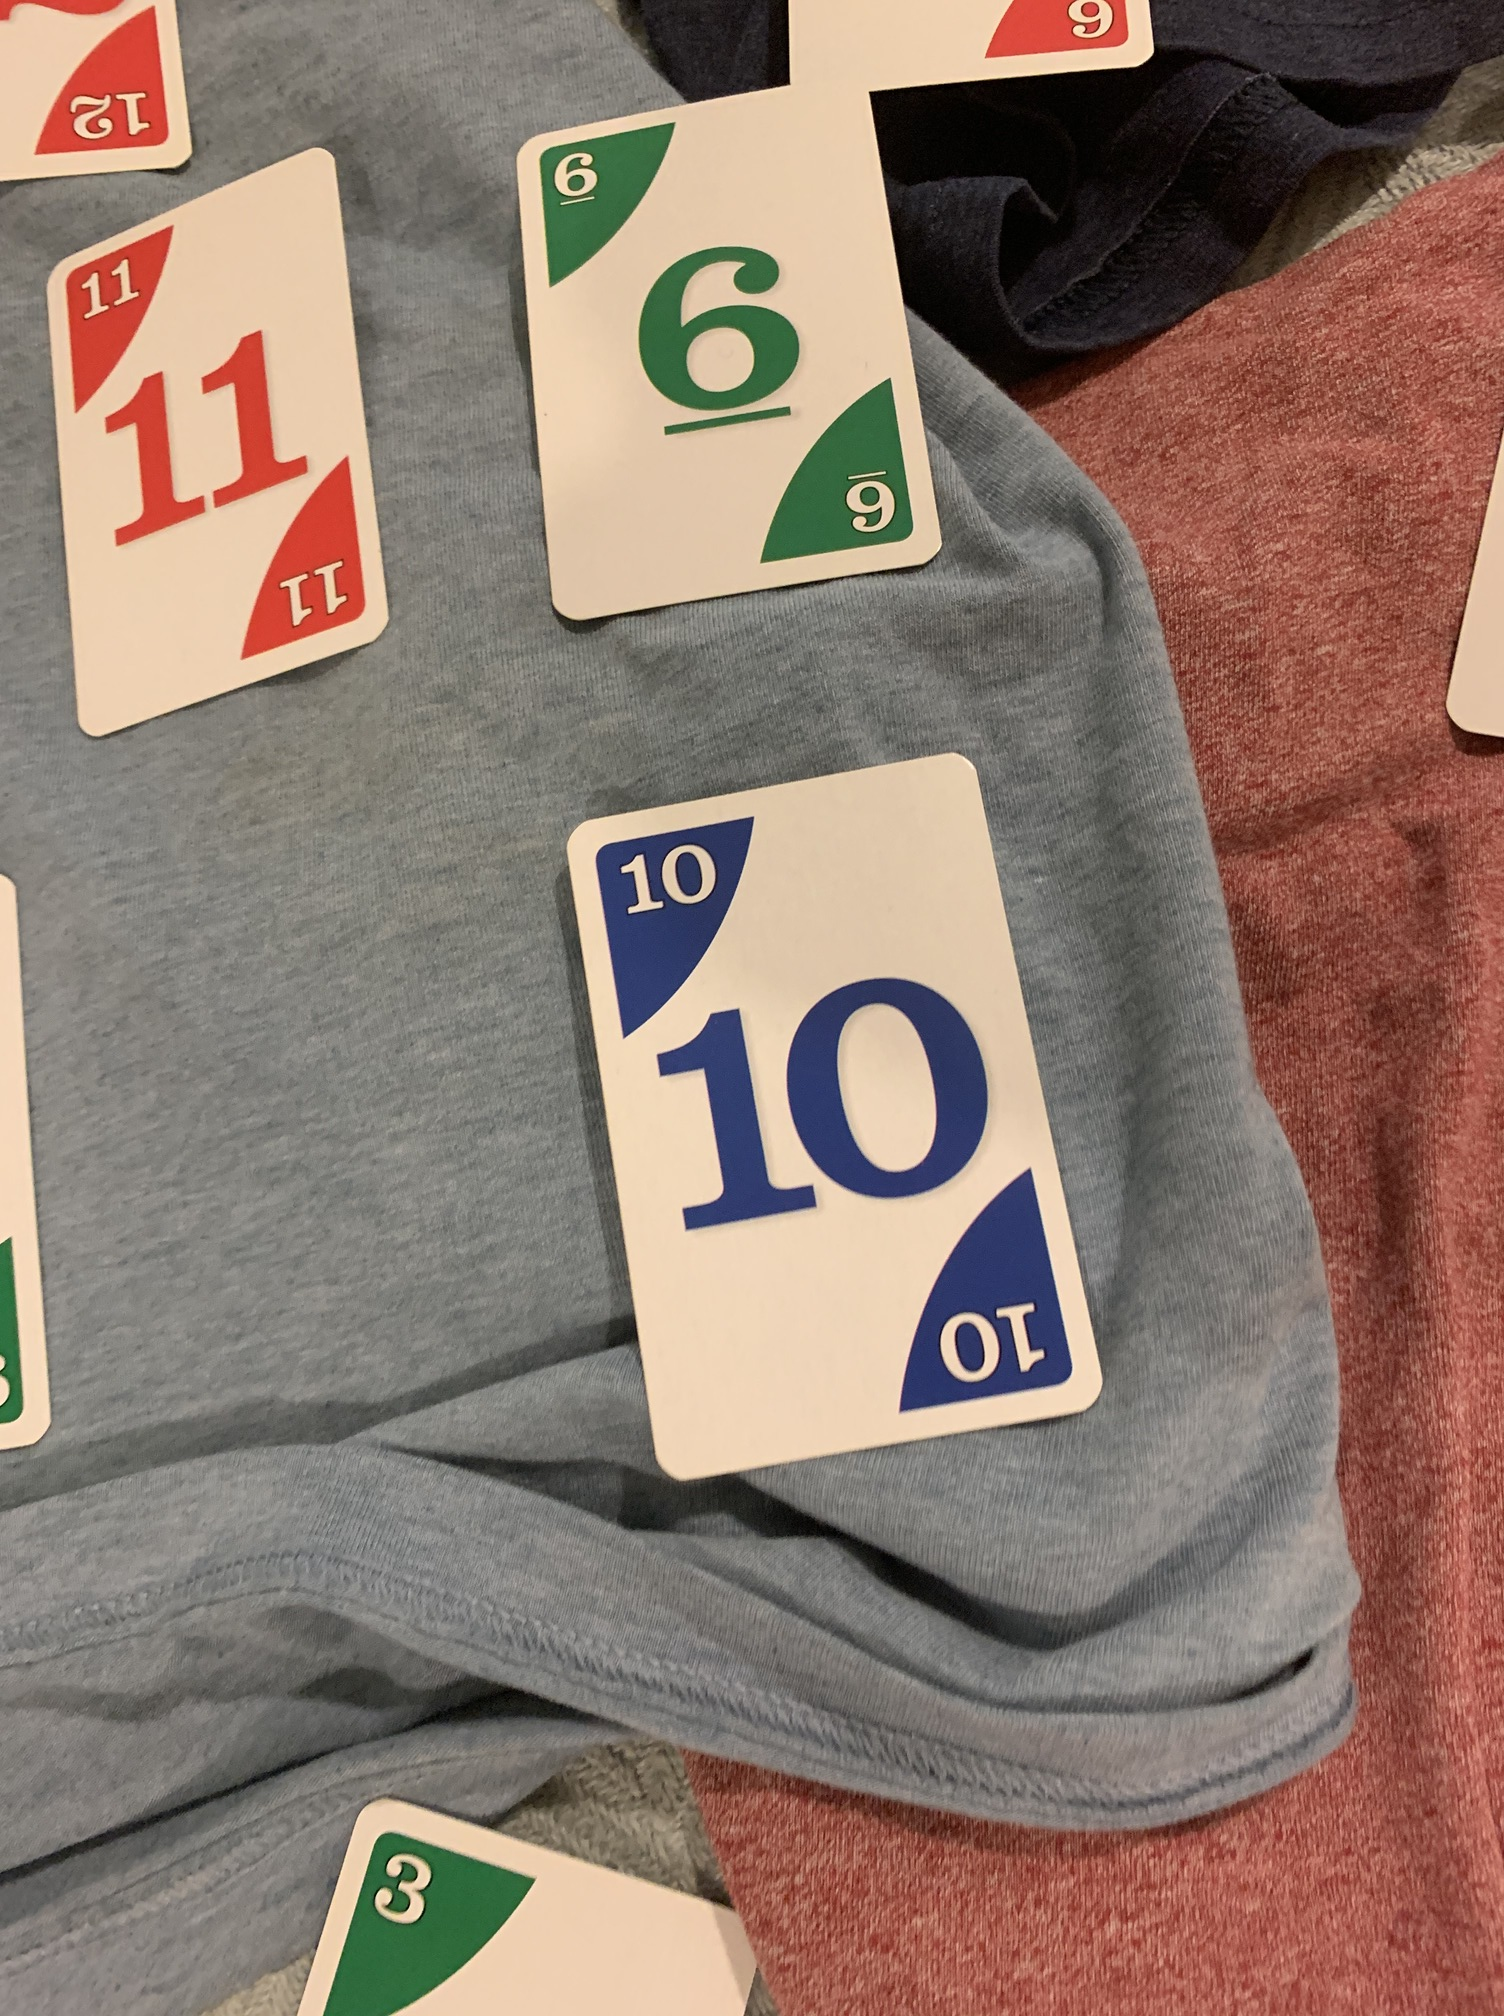eleven: (39, 136, 400, 752)
six: (502, 73, 945, 638)
ten: (543, 746, 1114, 1491)
